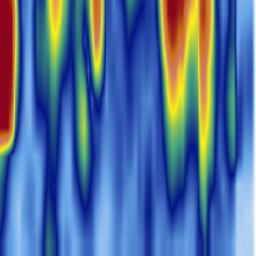defect: (154, 1, 192, 233), (32, 2, 61, 256), (196, 1, 216, 256), (218, 2, 243, 201), (1, 1, 25, 196), (113, 1, 149, 131), (68, 65, 95, 226), (82, 1, 108, 125)
